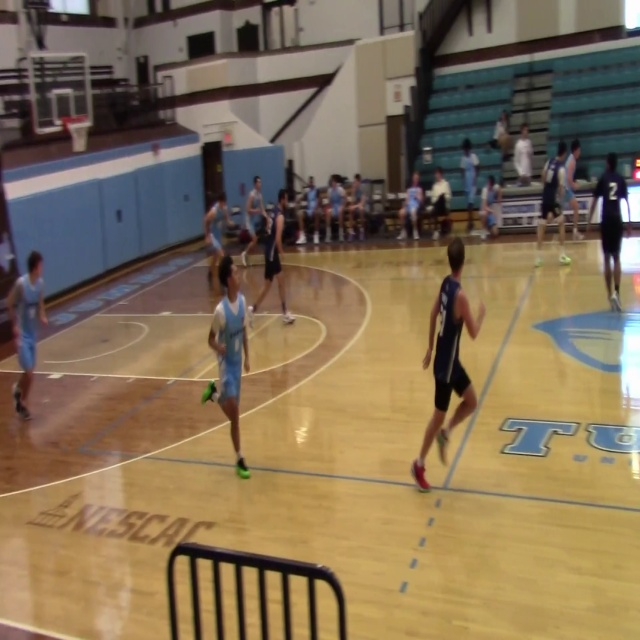Basketball: (238, 228, 253, 244)
